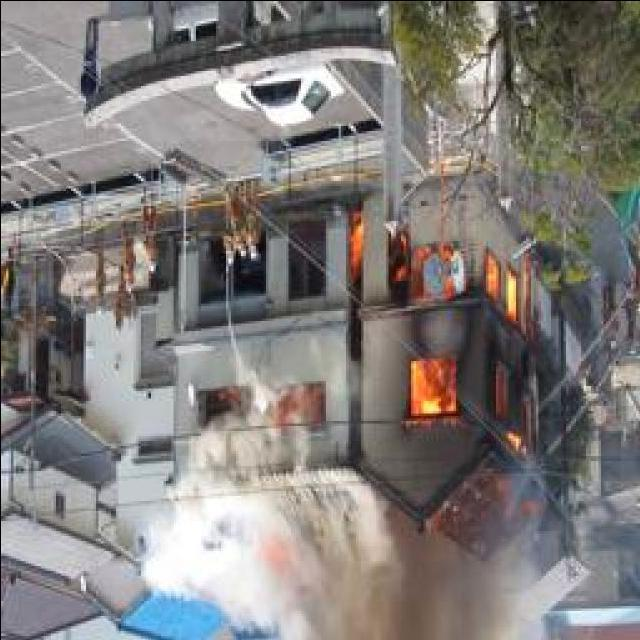Fire: (333, 190, 542, 452)
